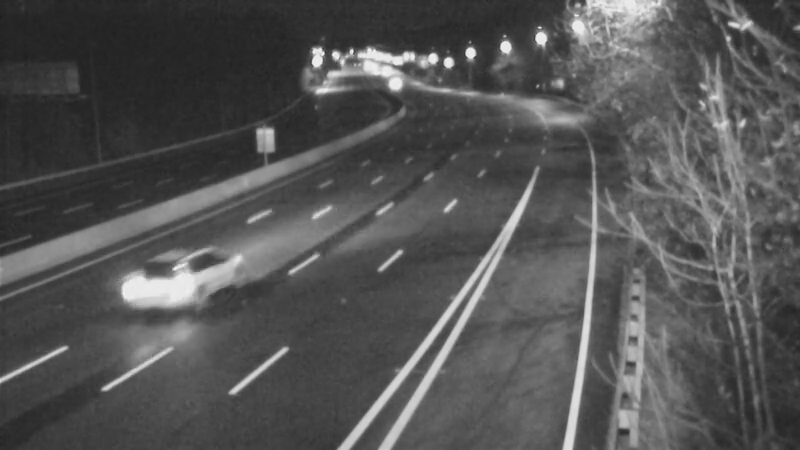vehicle: (123, 251, 203, 331), (368, 57, 418, 107)
